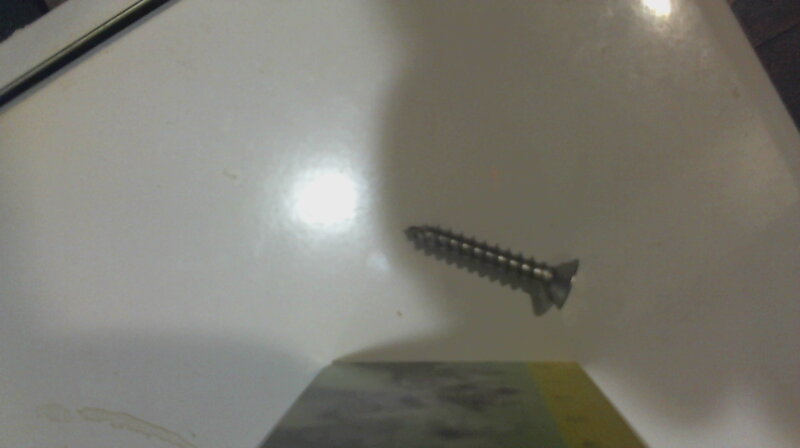S001: (400, 222, 582, 313)
